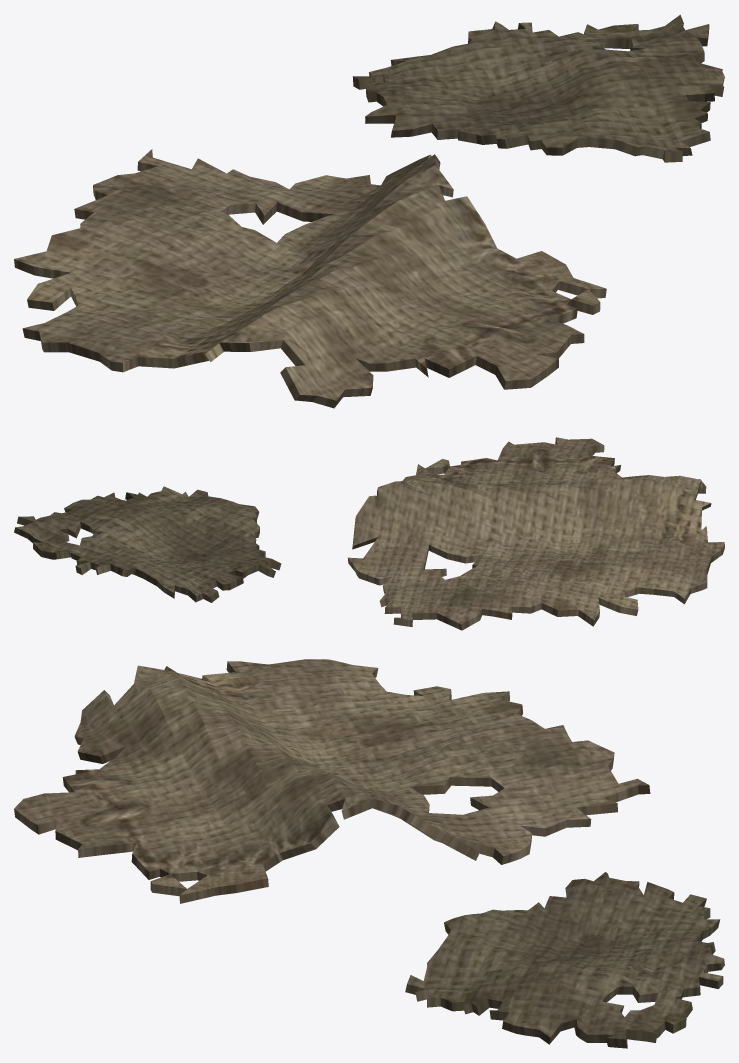
File: junk_rags_b.glb
3 views of the same model, one above another, from view 1: azimuth 30°, elevation 25°; view 2: azimuth 150°, elevation 25°; view 3: azimuth 270°, elevation 25° (orthographic). The views are drawn at different scales.
Visible parts, largest first — view 1: model; view 2: model; view 3: model.
Boxes of the visible parts, x1=… form: model: x1=14, y1=14, x2=724, y2=408; model: x1=14, y1=437, x2=724, y2=630; model: x1=14, y1=659, x2=724, y2=1048.
Bounding box in the file's own units: 0.5568 × 0.05 × 0.4338.
Materials: 2 (2 with a texture image).
